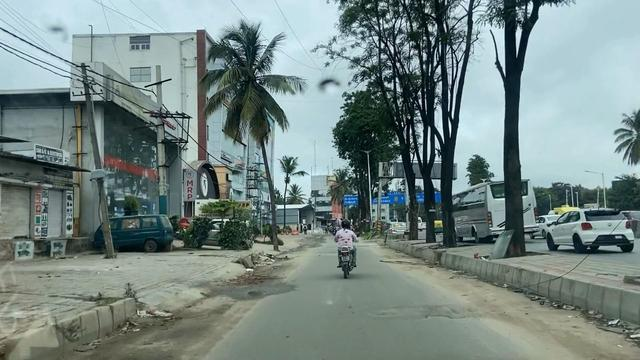LMV: (338, 217, 356, 277)
RoadDamages: (381, 302, 530, 324), (140, 324, 212, 360), (224, 268, 290, 305)
